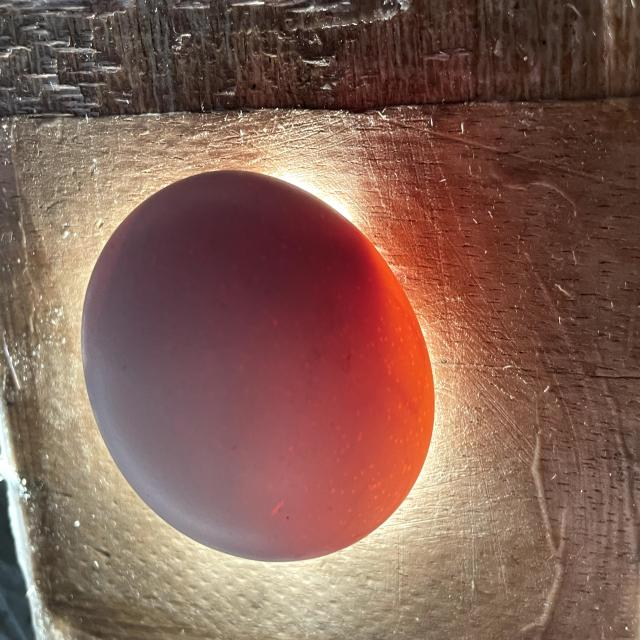fertile: (82, 172, 434, 560)
